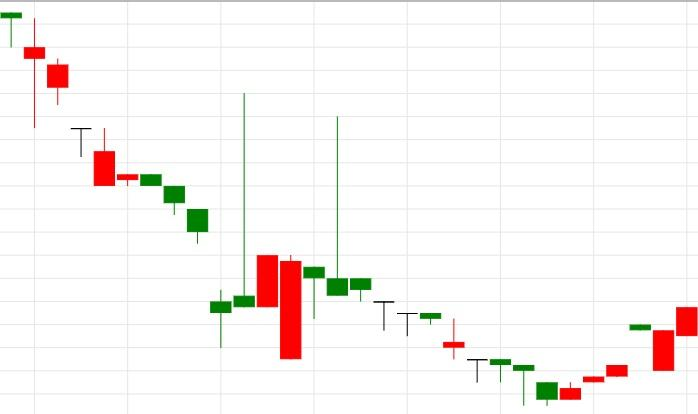three_white_soldiers_rise: (256, 117, 628, 406)
